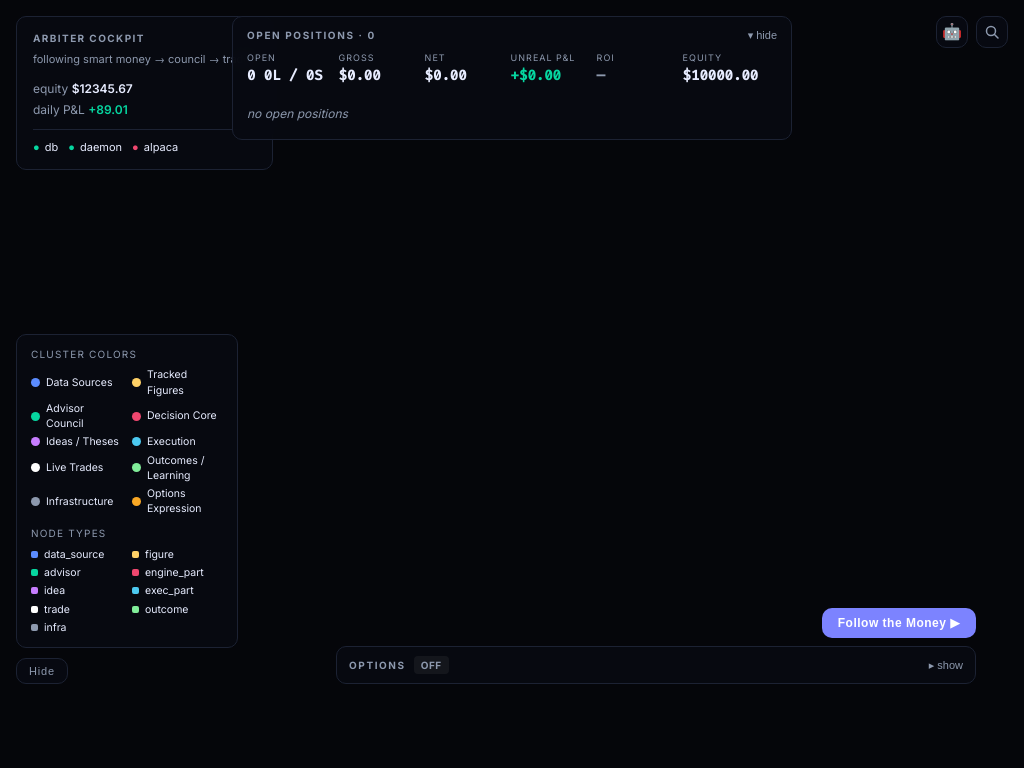
Test: Walkthrough › opens walkthrough panel on button click
Click the button with test id "walkthrough-btn": (899, 623) [822, 608, 976, 638]
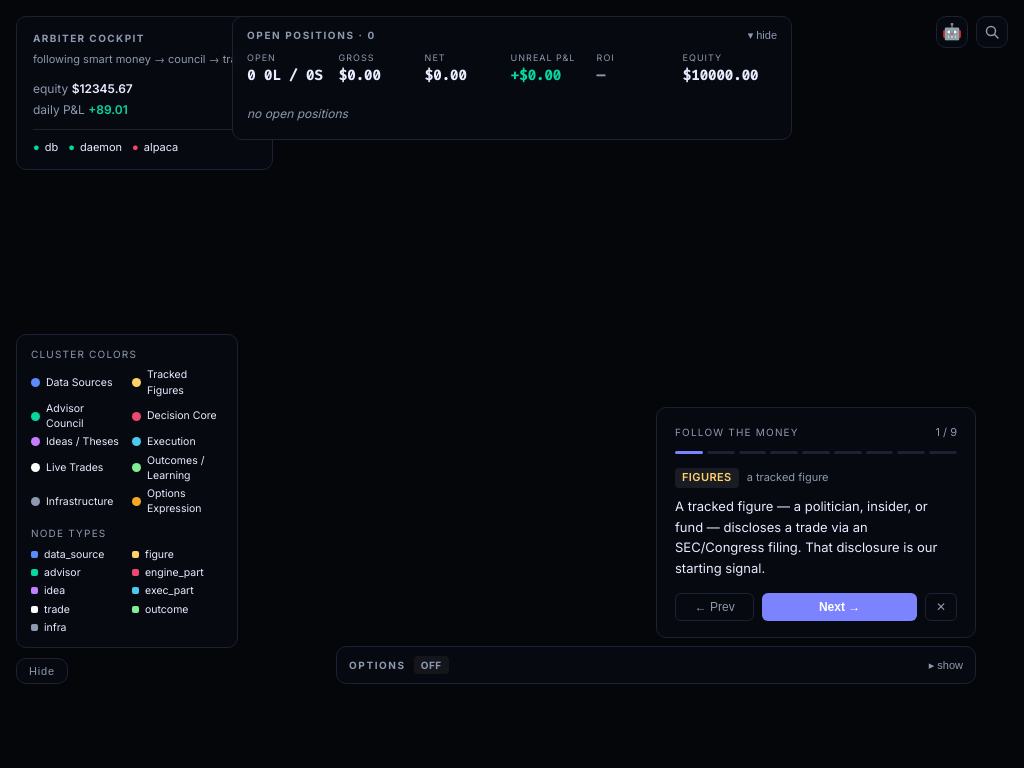
Result: the element with test id "walkthrough-panel" is shown at [656, 407, 976, 638]
Result: the element with test id "walkthrough-panel" shows "Follow the Money" at [675, 426, 799, 438]
